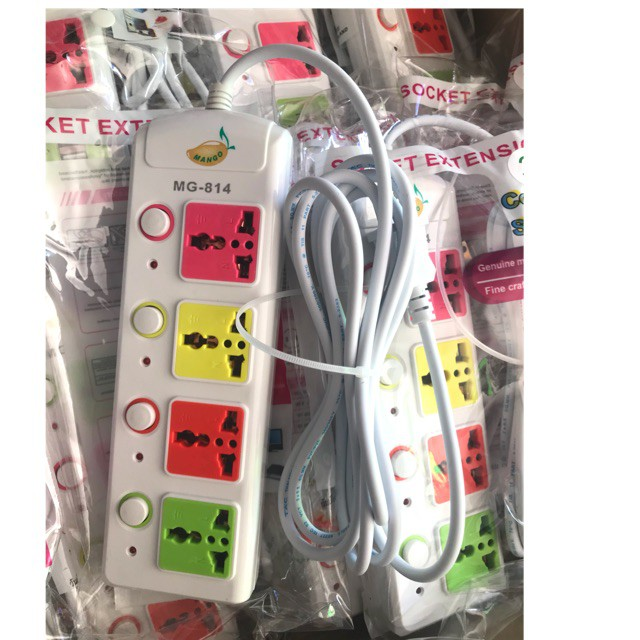Three_eye_plug: (93, 100, 298, 613), (312, 162, 513, 640)
